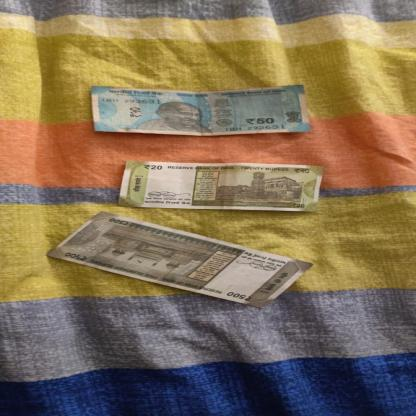New20Back: (118, 160, 324, 212)
New500Back: (46, 210, 314, 310)
New50Front: (90, 84, 314, 136)
